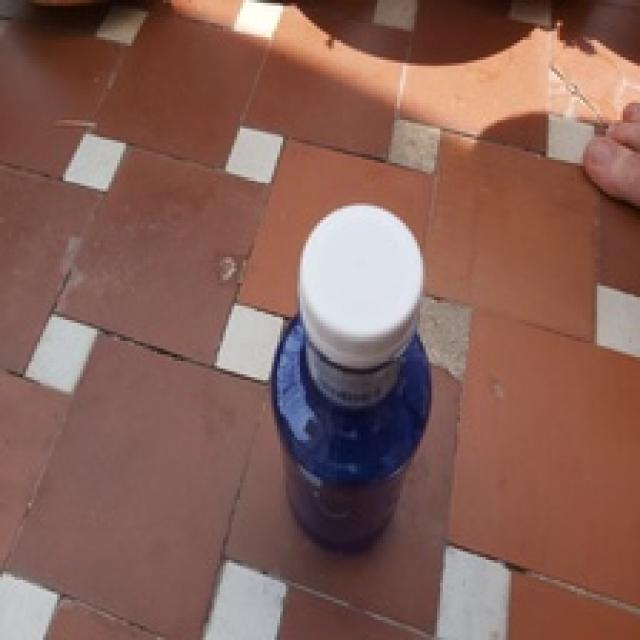Plastic: (273, 200, 438, 556)
